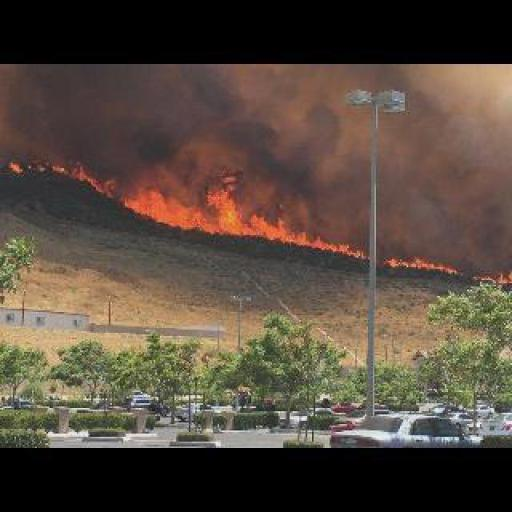smoke: (128, 179, 368, 261), (6, 158, 109, 197), (387, 256, 509, 283)
